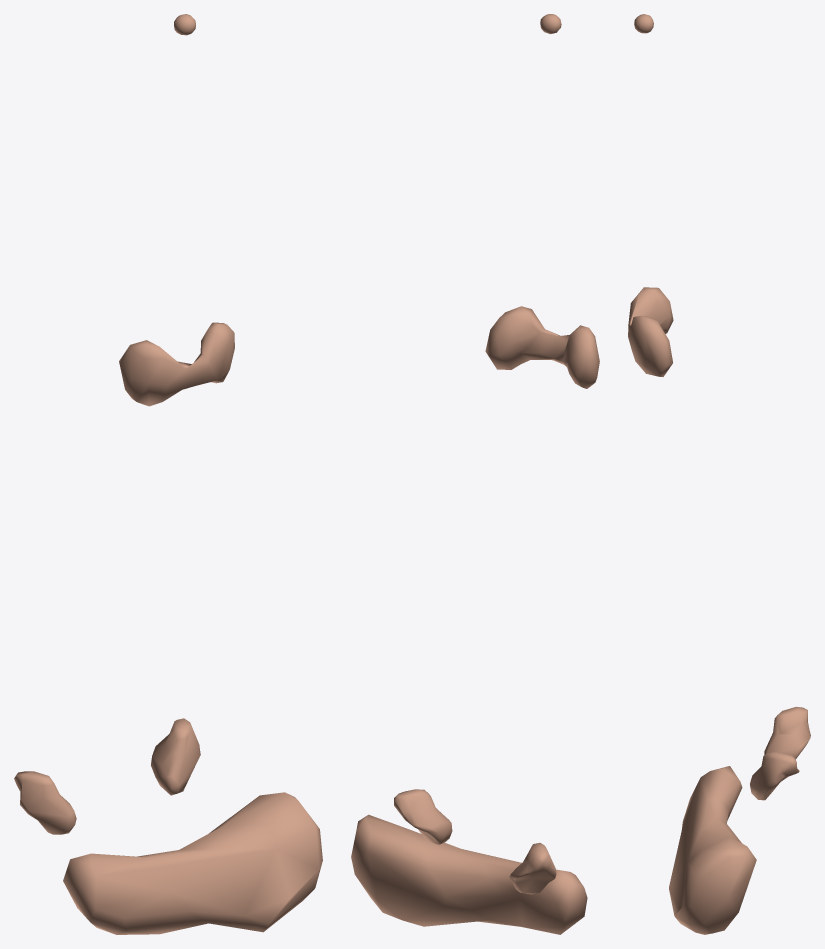
Rendered from pediatric_adolescent_female.endocrine.LOD2.glb.
3 renders of one model, left to right at view 1: azimuth 30°, elevation 25°; view 2: azimuth 150°, elevation 25°; view 3: azimuth 270°, elevation 25°, orthographic. The views are drawn at different scales.
Parts seen in each view (by area): view 1: PEDIATRIC.ADOLESCENT.FEMALE.ENDOCRINE.PANCREAS, PEDIATRIC.ADOLESCENT.FEMALE.ENDOCRINE.THYROID, PEDIATRIC.ADOLESCENT.FEMALE.ENDOCRINE.ADRENAL.L, PEDIATRIC.ADOLESCENT.FEMALE.ENDOCRINE.ADRENAL.R; view 2: PEDIATRIC.ADOLESCENT.FEMALE.ENDOCRINE.PANCREAS, PEDIATRIC.ADOLESCENT.FEMALE.ENDOCRINE.THYROID, PEDIATRIC.ADOLESCENT.FEMALE.ENDOCRINE.ADRENAL.L, PEDIATRIC.ADOLESCENT.FEMALE.ENDOCRINE.ADRENAL.R; view 3: PEDIATRIC.ADOLESCENT.FEMALE.ENDOCRINE.PANCREAS, PEDIATRIC.ADOLESCENT.FEMALE.ENDOCRINE.THYROID, PEDIATRIC.ADOLESCENT.FEMALE.ENDOCRINE.ADRENAL.R, PEDIATRIC.ADOLESCENT.FEMALE.ENDOCRINE.ADRENAL.L.
Boxes of the visible parts, <box> form: PEDIATRIC.ADOLESCENT.FEMALE.ENDOCRINE.PANCREAS: <box>63,792,322,934</box>; PEDIATRIC.ADOLESCENT.FEMALE.ENDOCRINE.THYROID: <box>119,322,234,406</box>; PEDIATRIC.ADOLESCENT.FEMALE.ENDOCRINE.ADRENAL.L: <box>151,718,200,795</box>; PEDIATRIC.ADOLESCENT.FEMALE.ENDOCRINE.ADRENAL.R: <box>14,771,76,834</box>; PEDIATRIC.ADOLESCENT.FEMALE.ENDOCRINE.PANCREAS: <box>351,814,587,934</box>; PEDIATRIC.ADOLESCENT.FEMALE.ENDOCRINE.THYROID: <box>485,306,599,388</box>; PEDIATRIC.ADOLESCENT.FEMALE.ENDOCRINE.ADRENAL.L: <box>394,789,452,844</box>; PEDIATRIC.ADOLESCENT.FEMALE.ENDOCRINE.ADRENAL.R: <box>509,843,556,894</box>; PEDIATRIC.ADOLESCENT.FEMALE.ENDOCRINE.PANCREAS: <box>669,766,756,934</box>; PEDIATRIC.ADOLESCENT.FEMALE.ENDOCRINE.THYROID: <box>628,287,673,376</box>; PEDIATRIC.ADOLESCENT.FEMALE.ENDOCRINE.ADRENAL.R: <box>764,706,810,759</box>; PEDIATRIC.ADOLESCENT.FEMALE.ENDOCRINE.ADRENAL.L: <box>750,751,799,800</box>.
Bounding box in the file's own units: 0.1317 × 0.4815 × 0.092.
